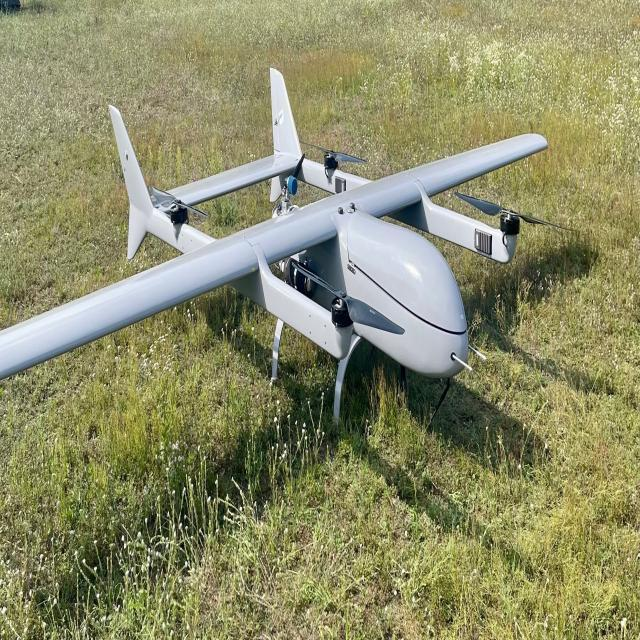iha: (0, 65, 554, 429)
